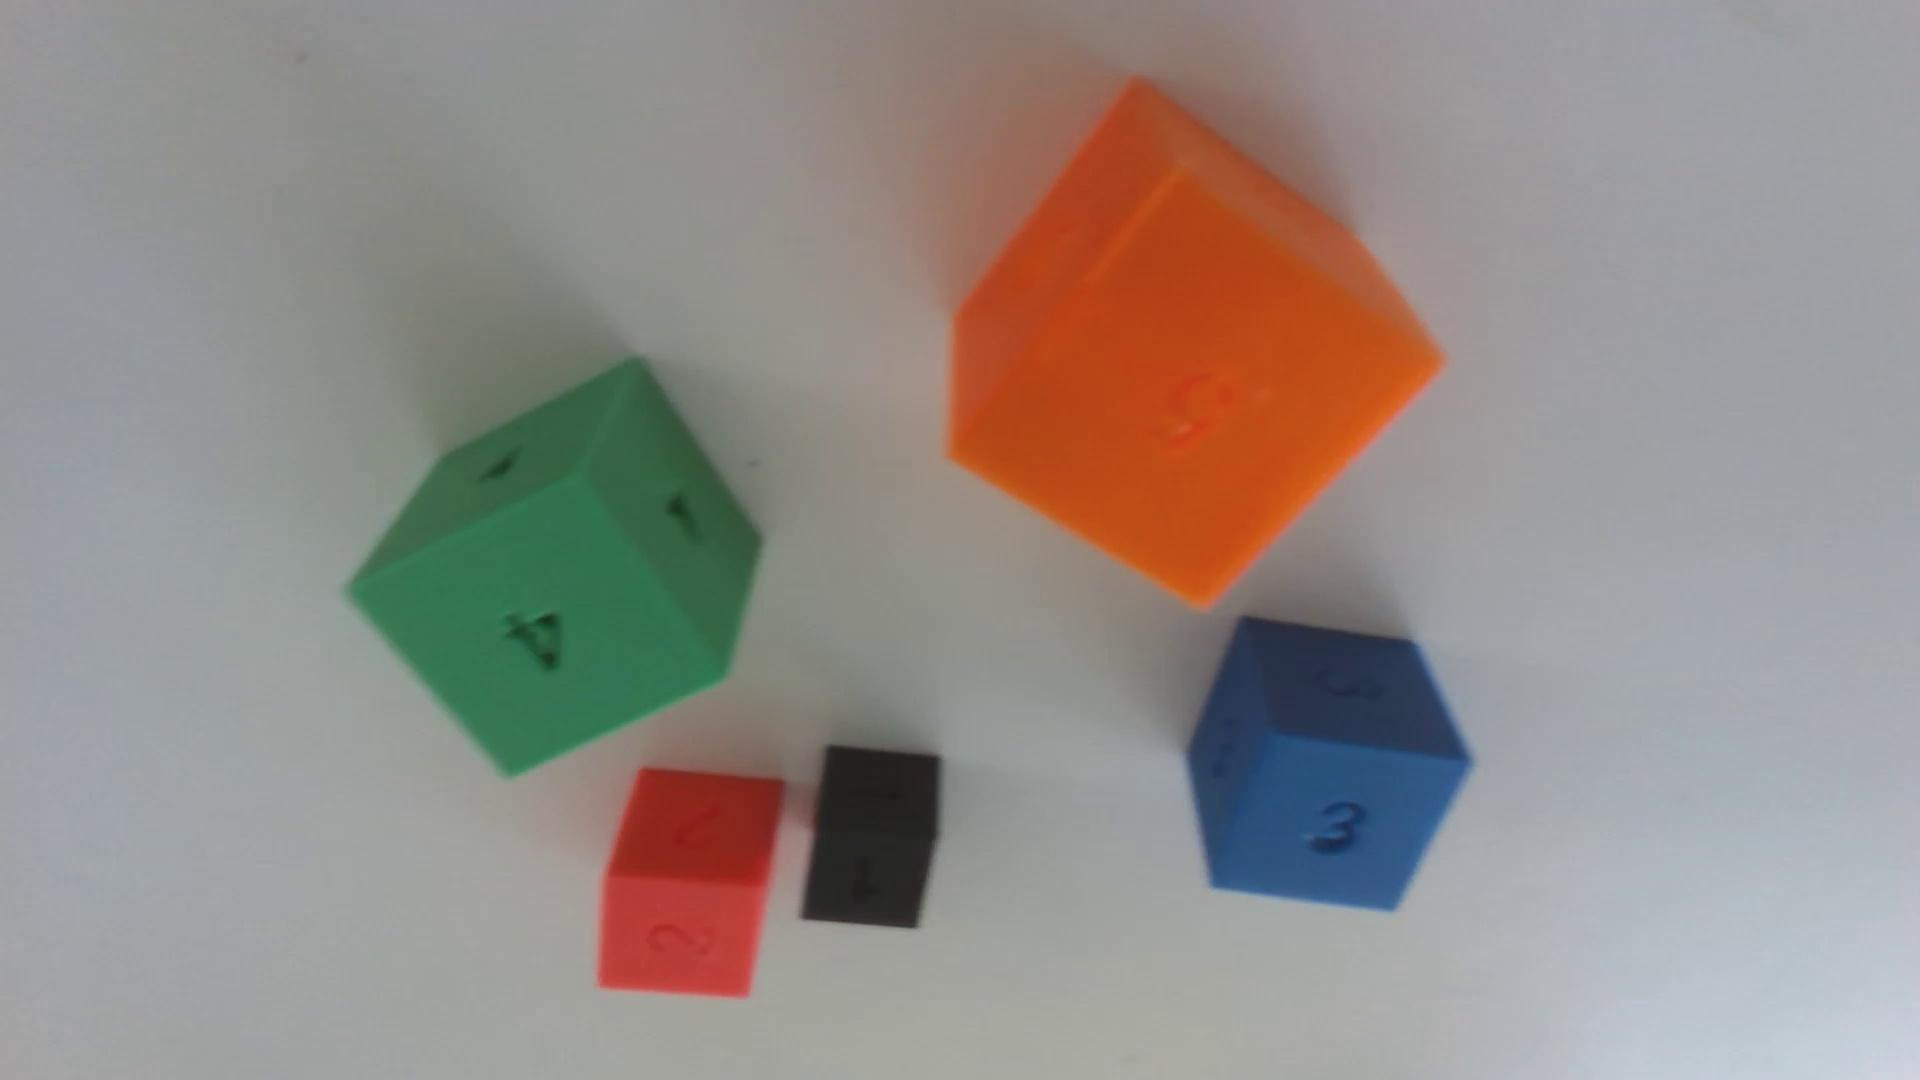black: (802, 745, 942, 928)
blue: (1187, 616, 1472, 910)
green: (349, 360, 762, 775)
orange: (948, 82, 1443, 605)
red: (597, 767, 786, 997)
